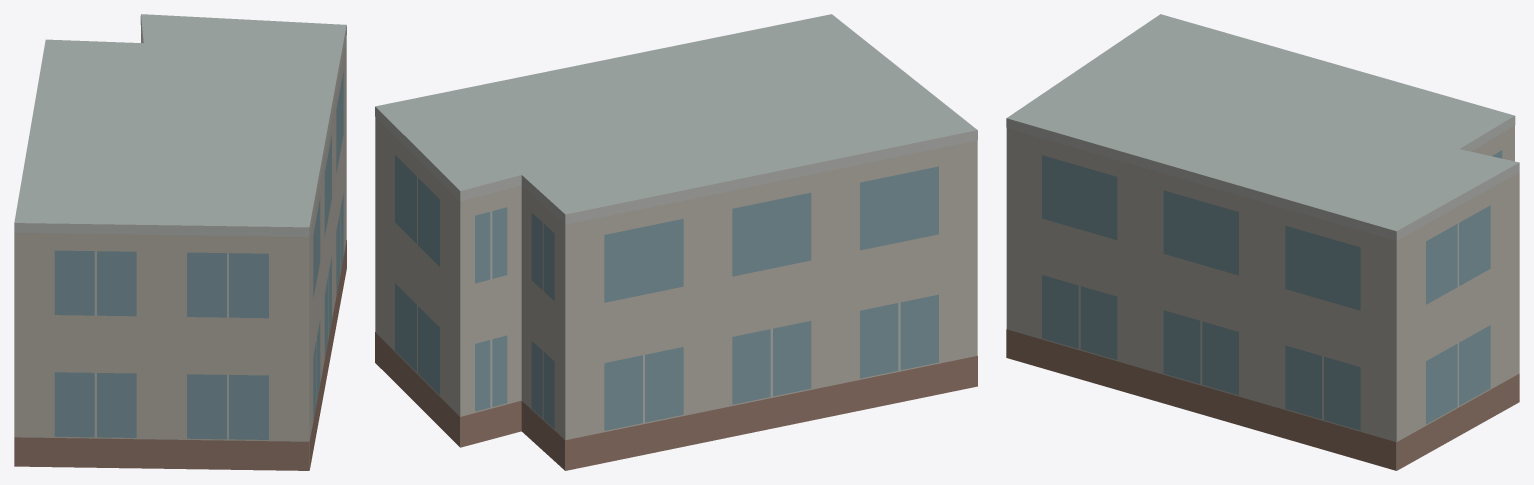
File: survey-upis-32655370.glb
3 renders of one model, left to right at view 1: azimuth 30°, elevation 25°; view 2: azimuth 150°, elevation 25°; view 3: azimuth 270°, elevation 25°, orthographic. The views are drawn at different scales.
Parts seen in each view (by area): view 1: survey-upis-32655370.tmp; view 2: survey-upis-32655370.tmp; view 3: survey-upis-32655370.tmp.
Boxes of the visible parts, x1,y1,x2,y2 form: survey-upis-32655370.tmp: (14,14,346,470); survey-upis-32655370.tmp: (375,14,977,470); survey-upis-32655370.tmp: (1006,14,1519,470).
Bounding box in the file's own units: 11.87 × 6.1 × 11.85.
